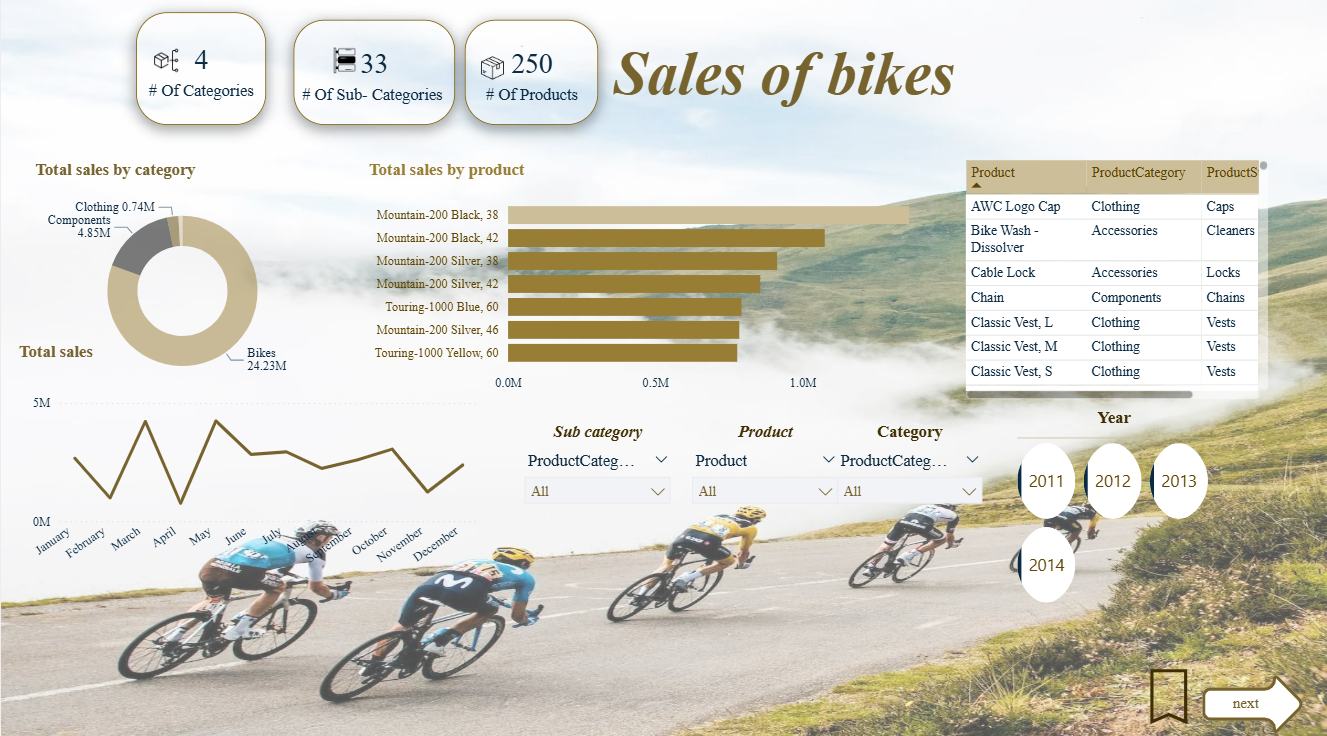

What the dashboard file says about the page in this screenshot:
{"tool":"powerbi","page":{"name":"Product","canvas":[1280,720],"ordinal":0},"visuals":[{"type":"card","fields":{"Values":["Count(Dim Product.ProductCategory)"]},"box":[130.3,20.5,125.5,108.6],"z":0},{"type":"card","fields":{"Values":["Count(Dim Product.ProductSubCategory)"]},"box":[282.3,27.7,155.6,101.3],"z":1000},{"type":"card","fields":{"Values":["Count(Dim Product.Product)"]},"box":[447.6,27.7,129.1,101.3],"z":2000},{"type":"clusteredBarChart","title":"Total sales by product","fields":{"Category":["Dim Product.Product"],"Y":["Sum(Fact Sales.LineTotal)"]},"box":[340,148.8,575,255],"z":3000},{"type":"donutChart","title":"Total sales by category","fields":{"Y":["Sum(Fact Sales.LineTotal)"],"Category":["Dim Product.ProductCategory"]},"box":[17.5,148.8,313.8,255],"z":4000},{"type":"tableEx","fields":{"Values":["Dim Product.Product","Dim Product.ProductCategory","Dim Product.ProductSubCategory"]},"box":[915.7,148.4,322.1,260.6],"z":5000},{"type":"lineChart","title":"Total sales ","fields":{"Category":["Dim Calendar.Date.Variation.Date Hierarchy.Year","Dim Calendar.Date.Variation.Date Hierarchy.Quarter","Dim Calendar.Date.Variation.Date Hierarchy.Month","Dim Calendar.Date.Variation.Date Hierarchy.Day"],"Y":["Sum(Fact Sales.LineTotal)"]},"box":[2.4,323.3,471.7,260.6],"z":6000},{"type":"slicer","title":"Product","fields":{"Values":["Dim Product.Product"]},"box":[662.3,416.2,150.8,88.1],"z":7000},{"type":"slicer","title":"Sub category","fields":{"Values":["Dim Product.ProductCategory"]},"box":[500.7,416.2,150.8,103.8],"z":8000},{"type":"advancedSlicerVisual","fields":{"Values":["Dim Calendar.Date.Variation.Date Hierarchy.Year"]},"box":[980.8,403,187,189.4],"z":9000},{"type":"slicer","title":"Category","fields":{"Values":["Dim Product.ProductCategory"]},"box":[802.3,416.2,149.6,91.7],"z":10000},{"type":"textbox","box":[591.2,47.1,360.7,149.6],"z":11000},{"type":"image","box":[302.5,38.8,57.5,56.2],"z":13000},{"type":"image","box":[447.6,47.1,53.1,54.3],"z":14000},{"type":"image","box":[130.3,38.6,57.9,56.7],"z":15000},{"type":"actionButton","box":[1159.4,656.3,100.1,63.9],"z":16000},{"type":"actionButton","box":[1088.2,641.8,79.6,78.4],"z":17000}]}

Visuals, with their boxes in screenshot pixels (x1, y1, x2, y2), scaled from the page's 1280x720 canvas onto the 1327x736 screenshot:
card - Count(Dim Product.ProductCategory): 135,21,265,132
card - Count(Dim Product.ProductSubCategory): 293,28,454,132
card - Count(Dim Product.Product): 464,28,598,132
"Total sales by product" clusteredBarChart: 352,152,949,413
"Total sales by category" donutChart: 18,152,343,413
tableEx - Dim Product.Product x Dim Product.ProductCategory: 949,152,1283,418
"Total sales " lineChart: 2,330,492,597
"Product" slicer: 687,425,843,516
"Sub category" slicer: 519,425,675,532
advancedSlicerVisual - Dim Calendar.Date.Variation.Date Hierarchy.Year: 1017,412,1211,606
"Category" slicer: 832,425,987,519
textbox: 613,48,987,201
image: 314,40,373,97
image: 464,48,519,104
image: 135,39,195,97
actionButton: 1202,671,1306,735
actionButton: 1128,656,1211,735
